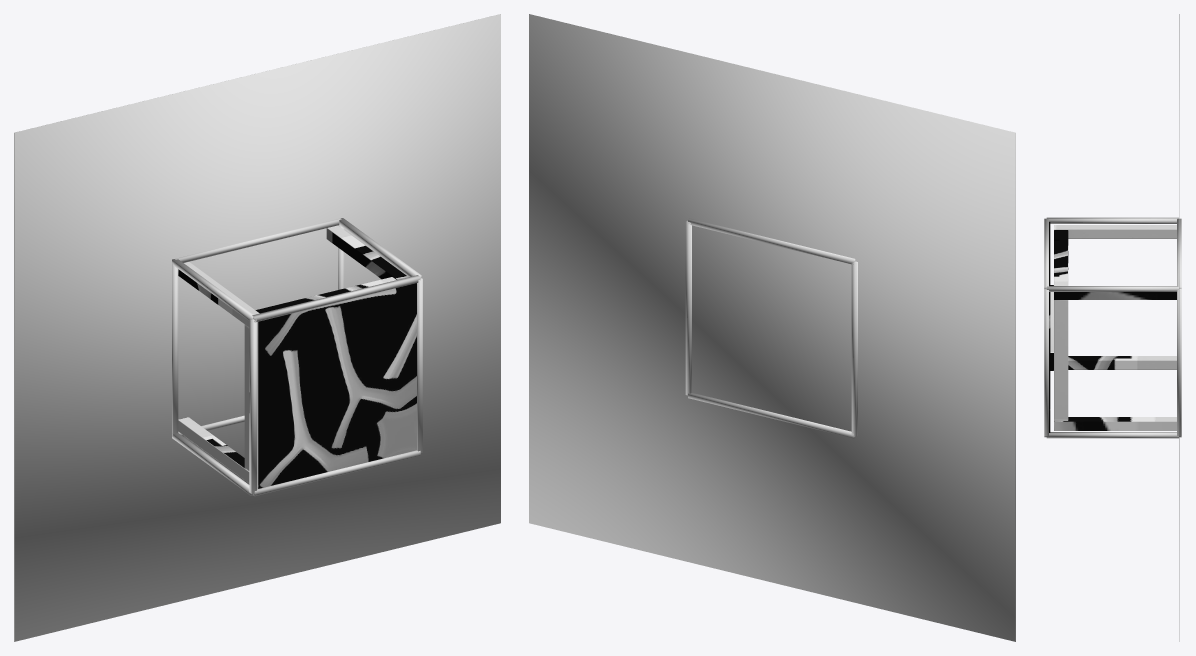
3 views of the same model, side by side, from view 1: azimuth 30°, elevation 25°; view 2: azimuth 150°, elevation 25°; view 3: azimuth 270°, elevation 25° (orthographic). The views are drawn at different scales.
Bounding box in the file's own units: 2 × 2 × 0.581.
